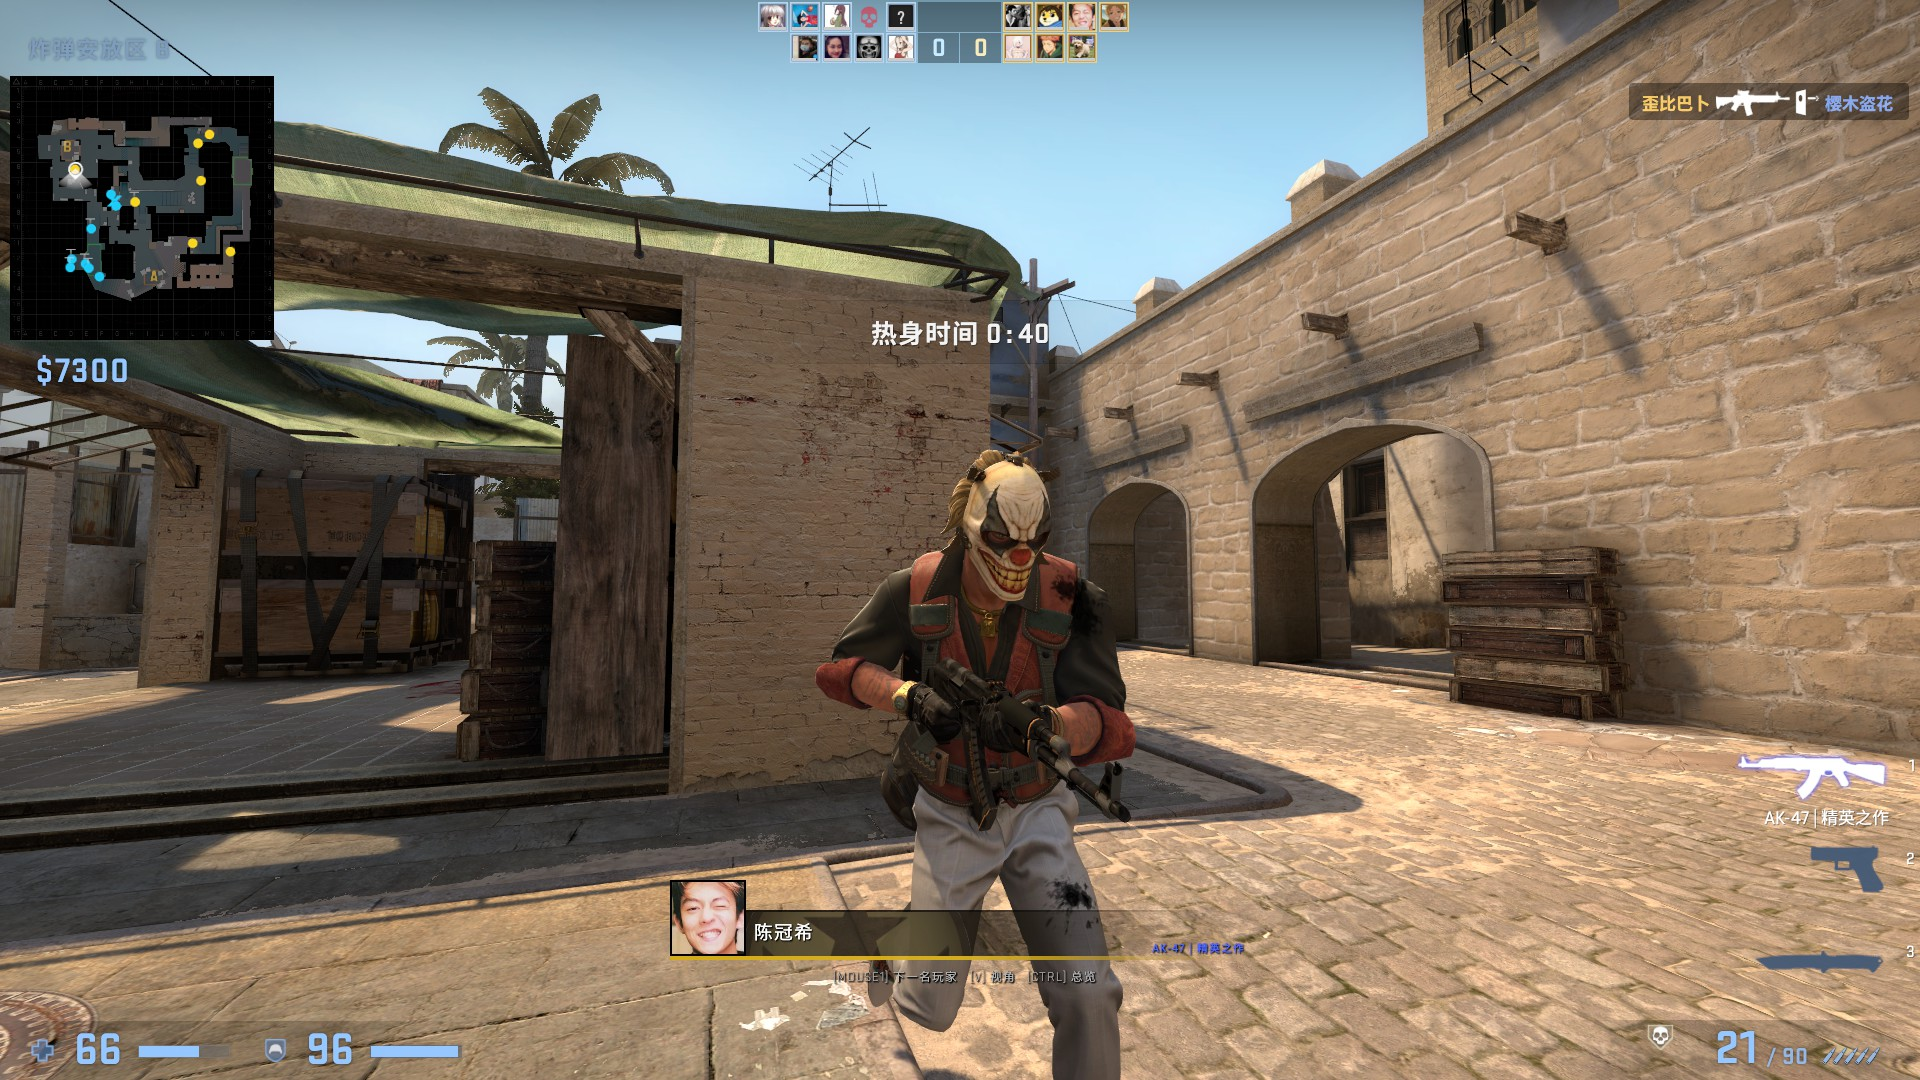head: (956, 446, 1050, 604)
